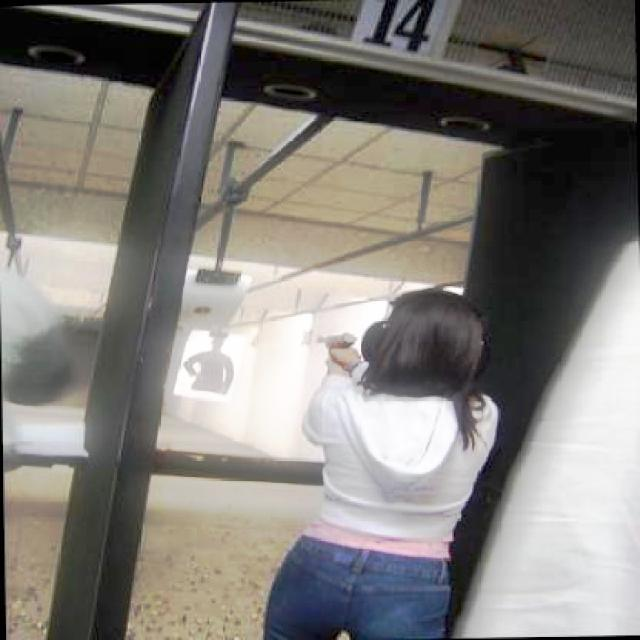Gun: (309, 316, 363, 362)
